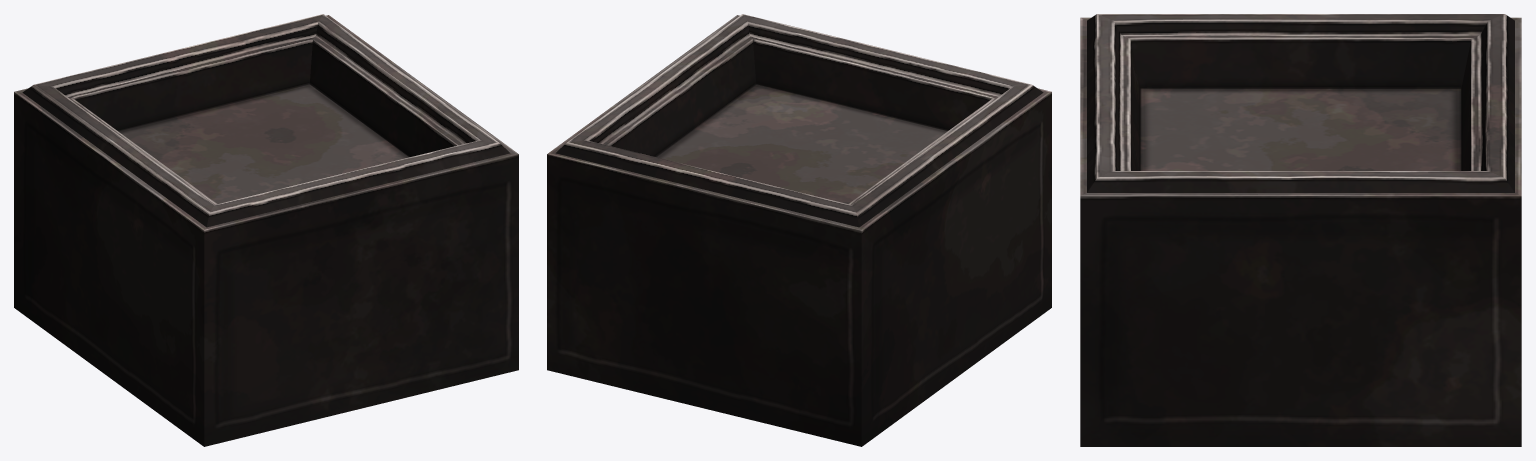
File: em_brazier_minotaur.fbx
3 views of the same model, side by side, from view 1: azimuth 30°, elevation 25°; view 2: azimuth 150°, elevation 25°; view 3: azimuth 270°, elevation 25° (orthographic). The views are drawn at different scales.
Visible parts, largest first — view 1: em_brazier_minotaur; view 2: em_brazier_minotaur; view 3: em_brazier_minotaur.
Part boxes in pixels (<box>): em_brazier_minotaur: <box>14,14,518,446</box>; em_brazier_minotaur: <box>547,14,1051,446</box>; em_brazier_minotaur: <box>1080,14,1521,446</box>.
Size of the model in its own units: 419 by 287 by 439.
